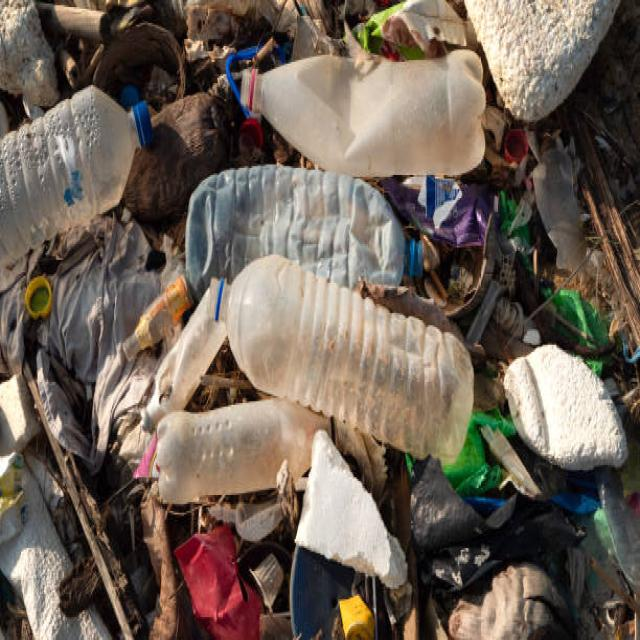plastic: (16, 37, 558, 534)
